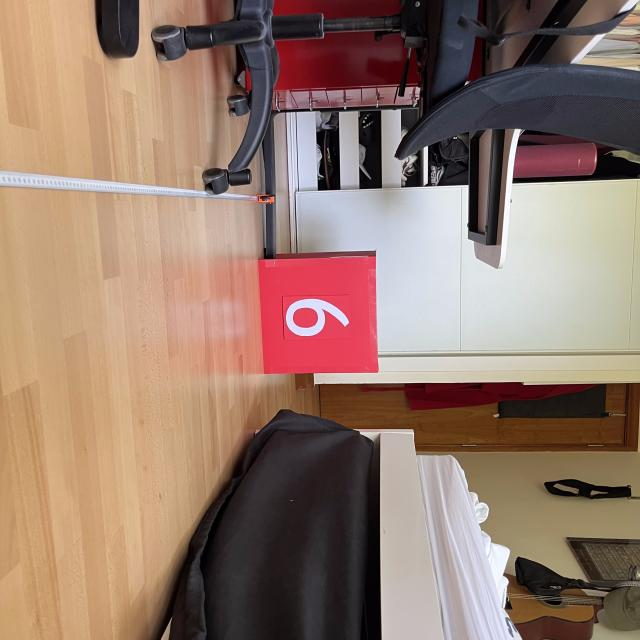box: (253, 247, 381, 376)
